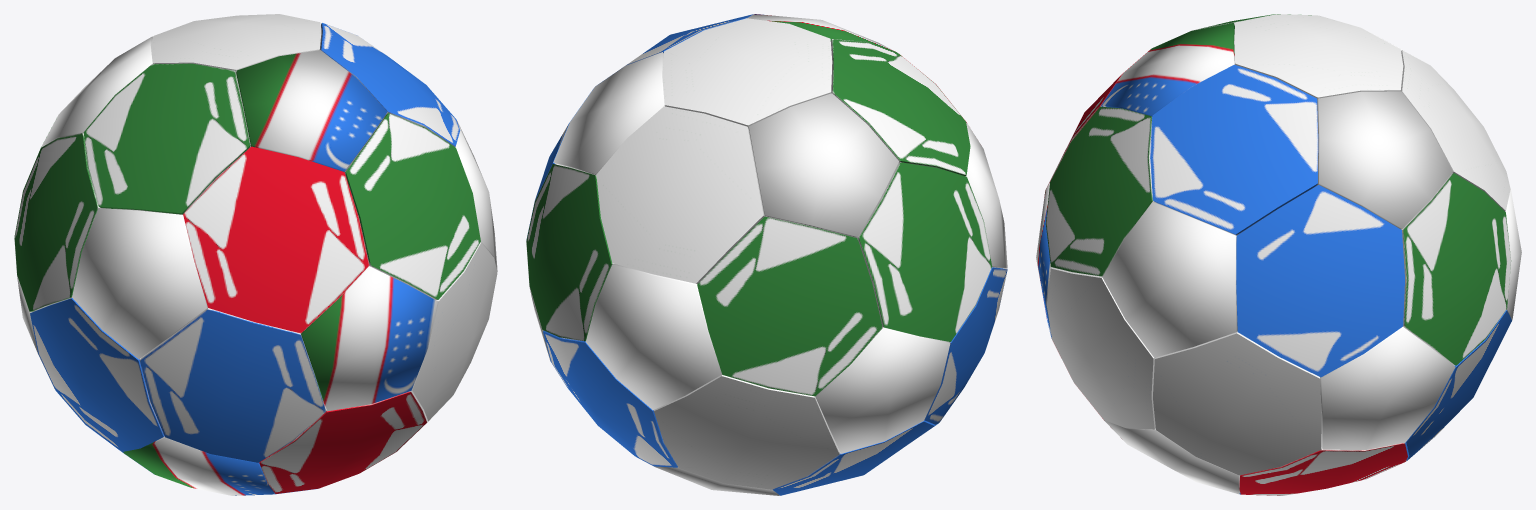
Rendered from uzbekistan.glb.
3 views of the same model, side by side, from view 1: azimuth 30°, elevation 25°; view 2: azimuth 150°, elevation 25°; view 3: azimuth 270°, elevation 25° (orthographic).
Parts seen in each view (by area): view 1: TANGO78_LOW_Material__152_0; view 2: TANGO78_LOW_Material__152_0; view 3: TANGO78_LOW_Material__152_0.
Part boxes in pixels (<box>): TANGO78_LOW_Material__152_0: <box>14,14,497,495</box>; TANGO78_LOW_Material__152_0: <box>526,14,1007,495</box>; TANGO78_LOW_Material__152_0: <box>1036,14,1521,495</box>.
Size of the model in its own units: 17.11 by 16.86 by 17.12.
Materials: 1 (1 with a texture image).
